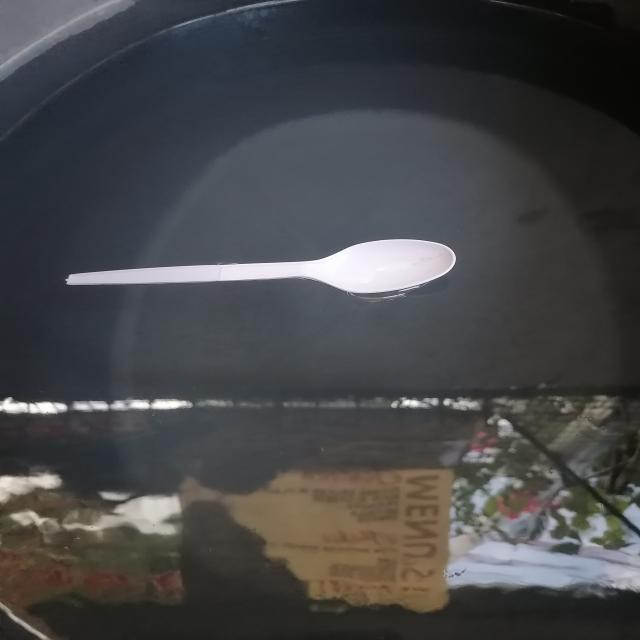Plastic Spoon: (66, 239, 455, 297)
